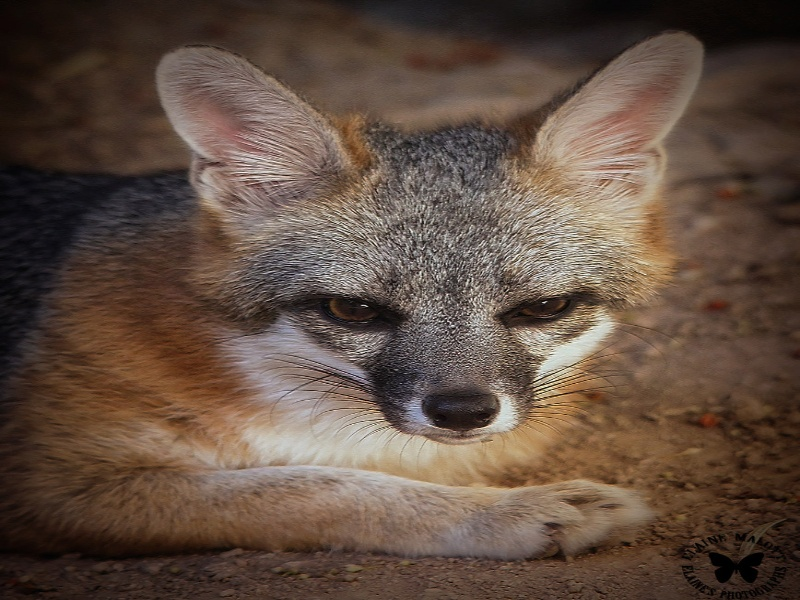fox: (18, 8, 731, 568)
